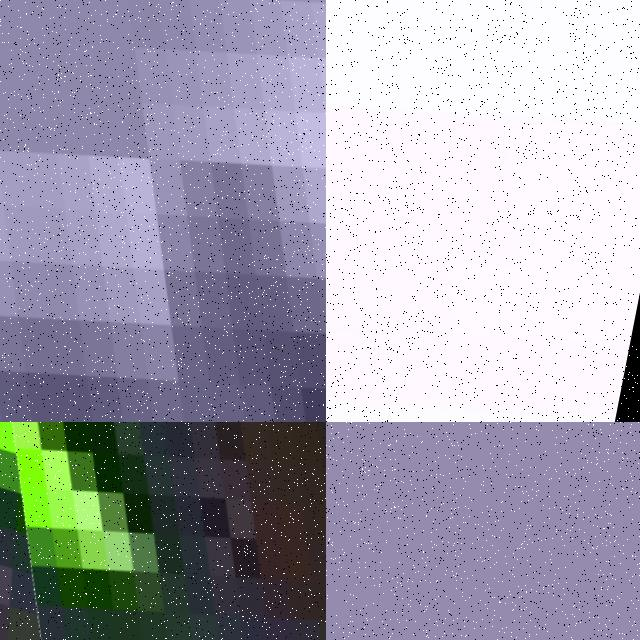0: (0, 0, 326, 422)
drone: (326, 0, 640, 422), (0, 422, 326, 640)
